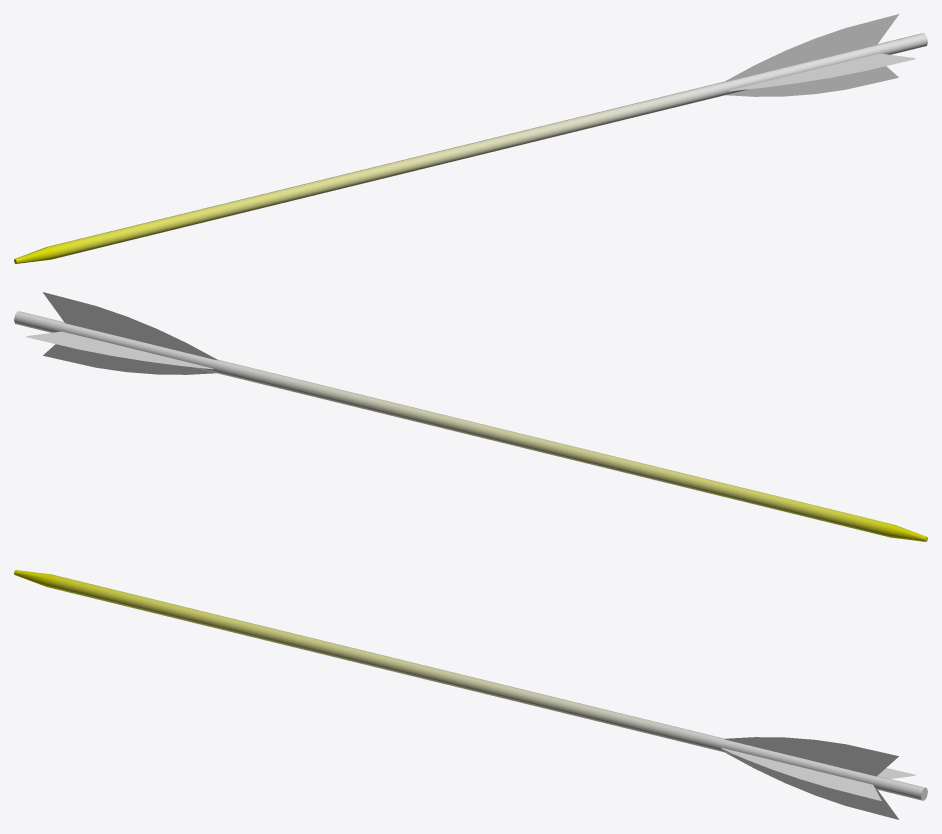
File: SM_Arrow_A.fbx
3 renders of one model, top to bottom at view 1: azimuth 30°, elevation 25°; view 2: azimuth 150°, elevation 25°; view 3: azimuth 330°, elevation 25°, orthographic.
Parts seen in each view (by area): view 1: SM_Arrow_A_LOD0; view 2: SM_Arrow_A_LOD0; view 3: SM_Arrow_A_LOD0.
Boxes of the visible parts, x1=… form: SM_Arrow_A_LOD0: x1=14, y1=14, x2=927, y2=263; SM_Arrow_A_LOD0: x1=14, y1=292, x2=927, y2=541; SM_Arrow_A_LOD0: x1=14, y1=570, x2=927, y2=819.
Size of the model in its own units: 60 by 4 by 4.
